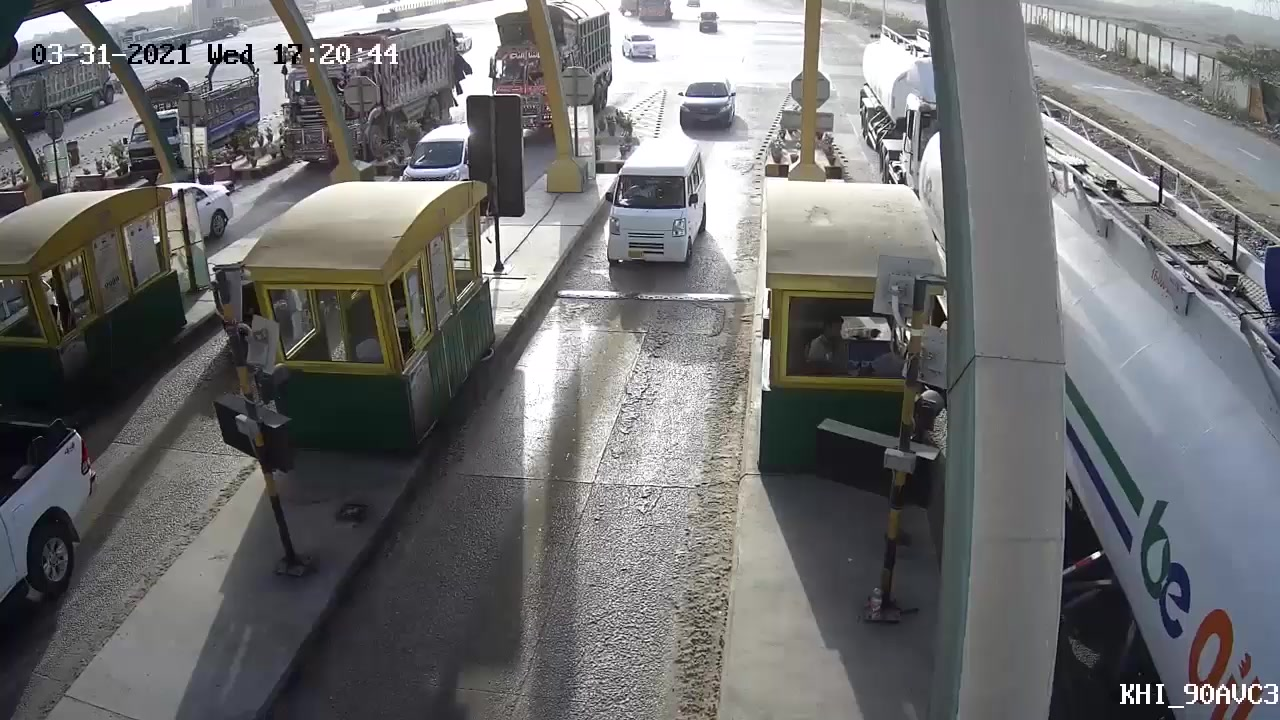F1: (590, 135, 709, 272)
